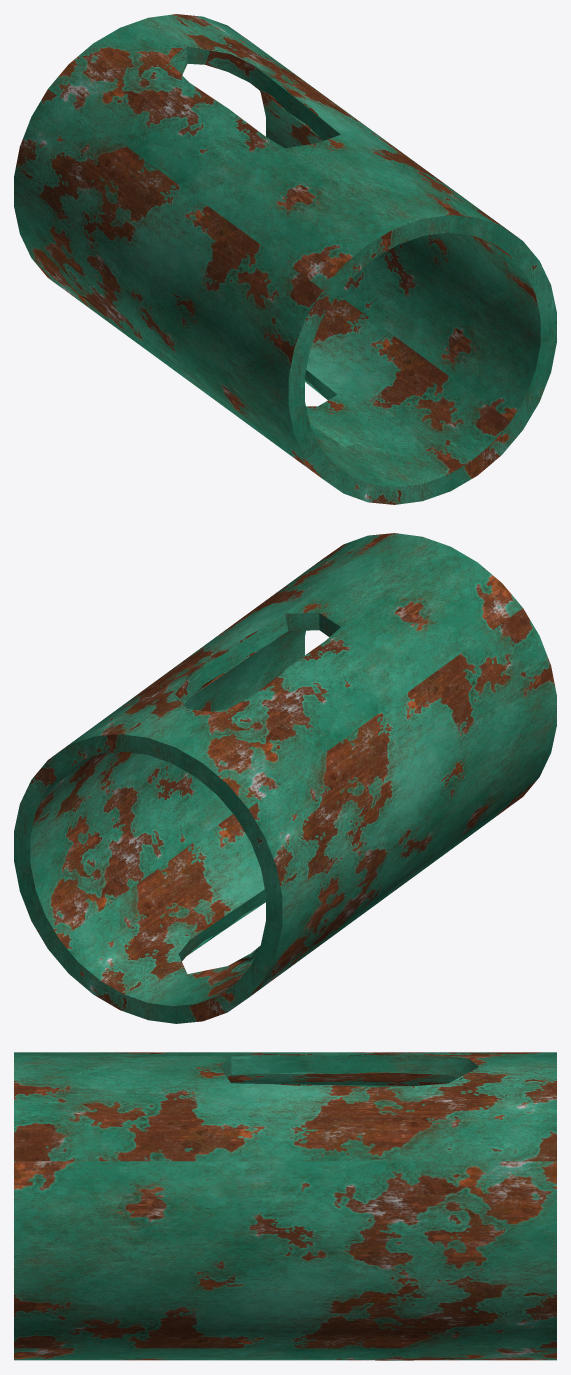
Rendered from CEV 3.fbx.
3 views of the same model, one above another, from view 1: azimuth 30°, elevation 25°; view 2: azimuth 150°, elevation 25°; view 3: azimuth 270°, elevation 25° (orthographic).
Parts seen in each view (by area): view 1: Tube002; view 2: Tube002; view 3: Tube002.
Boxes of the visible parts, x1=… form: Tube002: x1=14, y1=14, x2=556, y2=504; Tube002: x1=14, y1=533, x2=556, y2=1023; Tube002: x1=14, y1=1052, x2=556, y2=1360.
Size of the model in its own units: 155 by 156 by 275.
